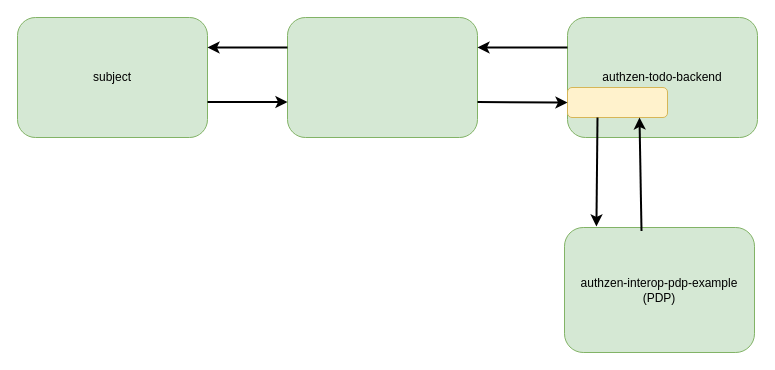
This 775x370 diagram has some shape labels left out. Each missing label, with the centre of its shape:
authzen-todo-application: point (382, 77)
middleware (PEP): point (617, 102)
